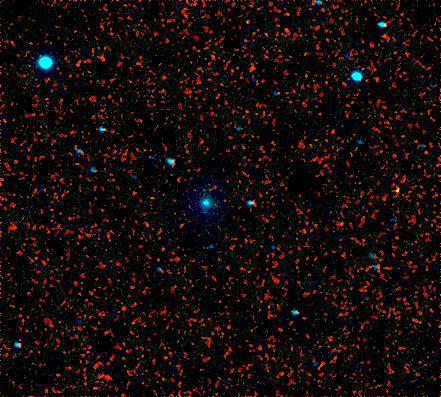star: (382, 176, 412, 206)
